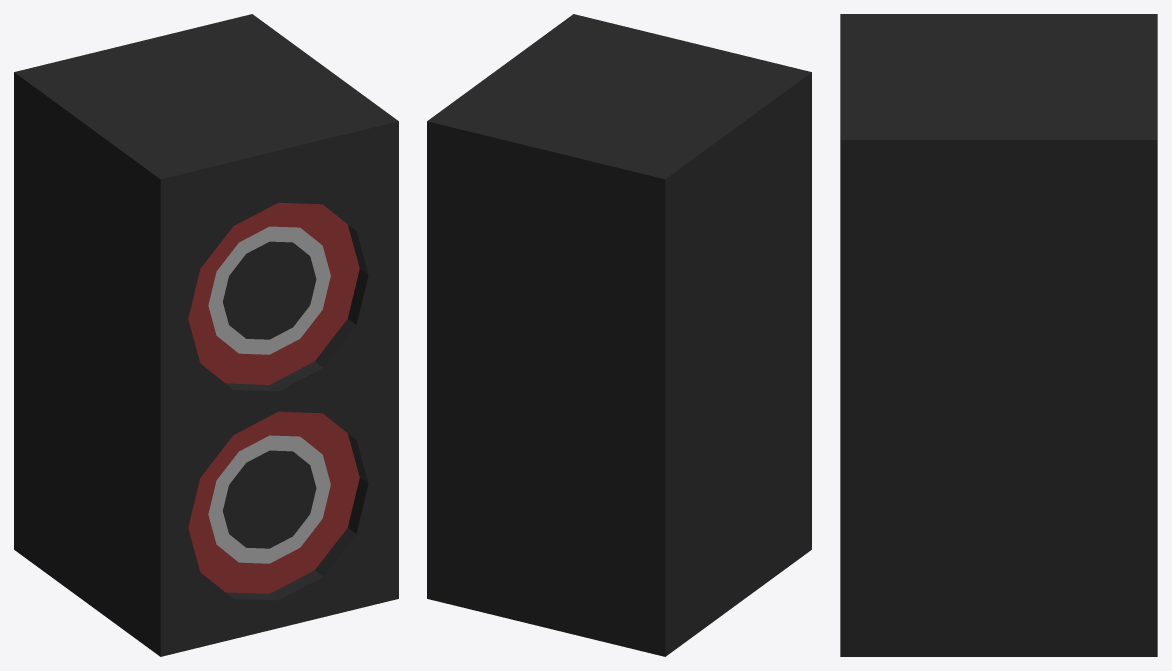
File: Speaker.fbx
3 views of the same model, side by side, from view 1: azimuth 30°, elevation 25°; view 2: azimuth 150°, elevation 25°; view 3: azimuth 270°, elevation 25° (orthographic). The views are drawn at different scales.
Parts seen in each view (by area): view 1: Speaker; view 2: Speaker; view 3: Speaker.
Part boxes in pixels (left/top/right/bottom): Speaker: left=14, top=14, right=398, bottom=656; Speaker: left=427, top=14, right=811, bottom=656; Speaker: left=840, top=14, right=1157, bottom=656.
Size of the model in its own units: 0.1006 by 0.1926 by 0.1071.
